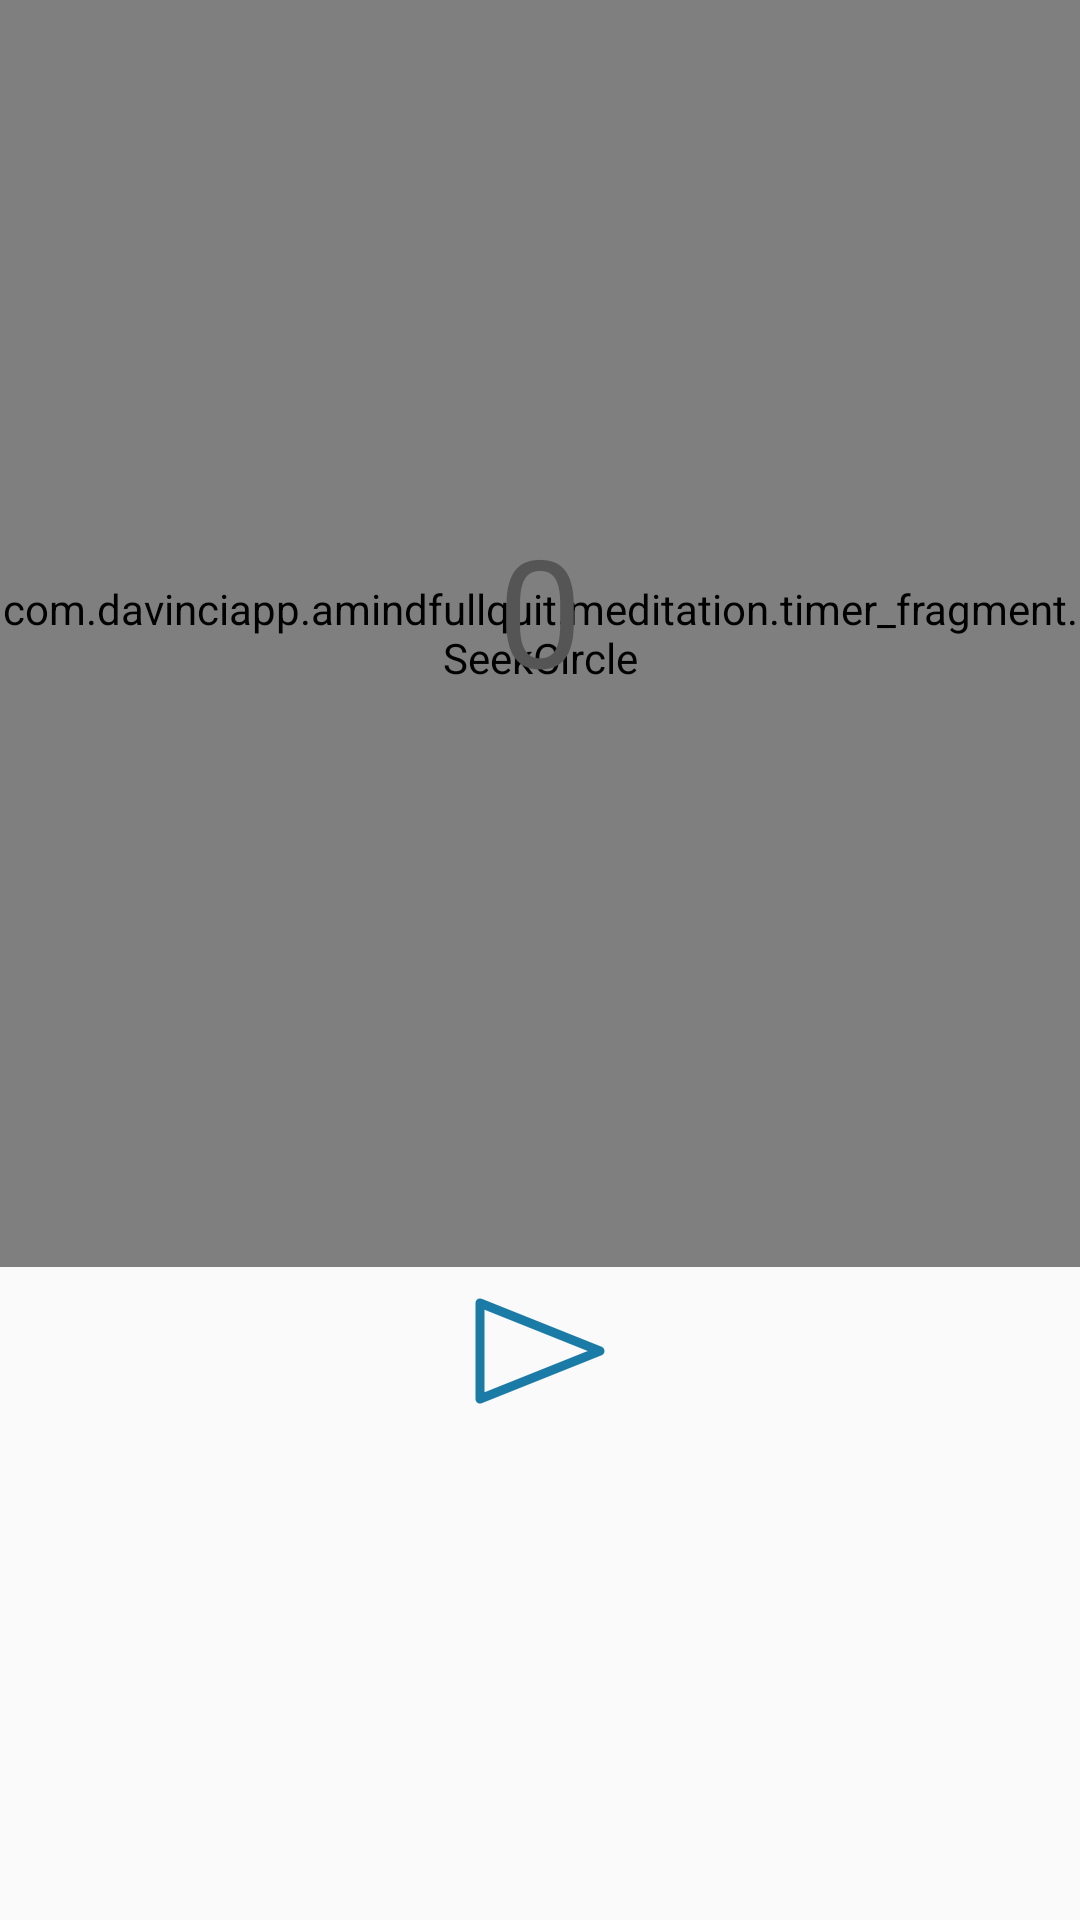

Locate icon controls on the screen. Image size 1080w x 1920h, boxes as region(x1, y1, x2, y2).
play: region(475, 1298, 605, 1404)
